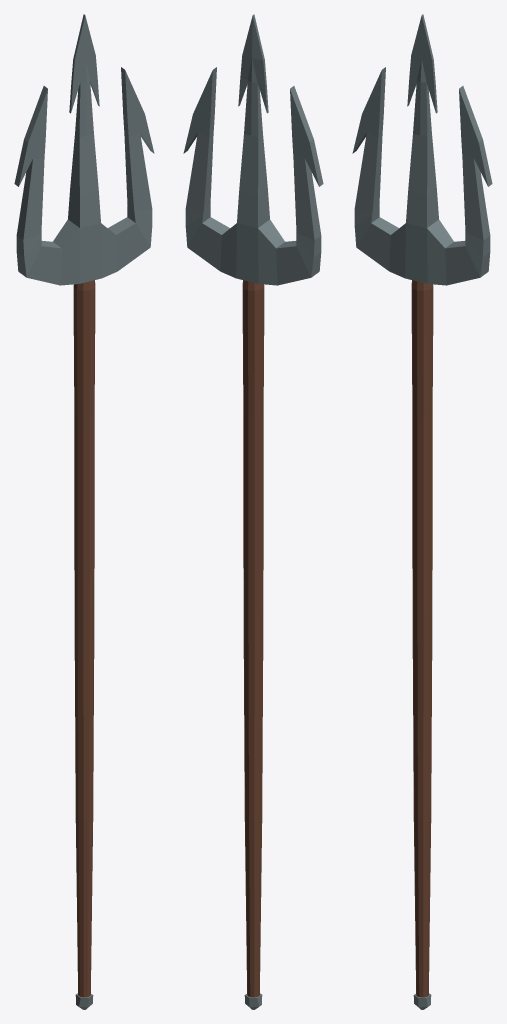
The model's file is Spear.fbx.
3 renders of one model, left to right at view 1: azimuth 30°, elevation 25°; view 2: azimuth 150°, elevation 25°; view 3: azimuth 330°, elevation 25°, orthographic.
Parts seen in each view (by area): view 1: Trident; view 2: Trident; view 3: Trident.
Part boxes in pixels (<box>): Trident: <box>14,14,154,1009</box>; Trident: <box>183,14,323,1009</box>; Trident: <box>352,14,492,1009</box>.
Size of the model in its own units: 39.46 by 276 by 6.12.
